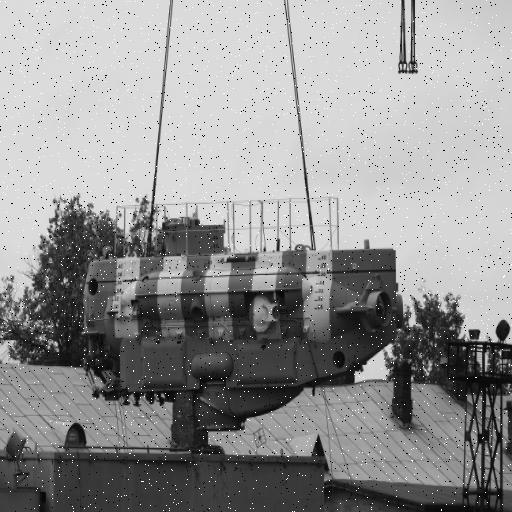submarine: (73, 195, 405, 449)
